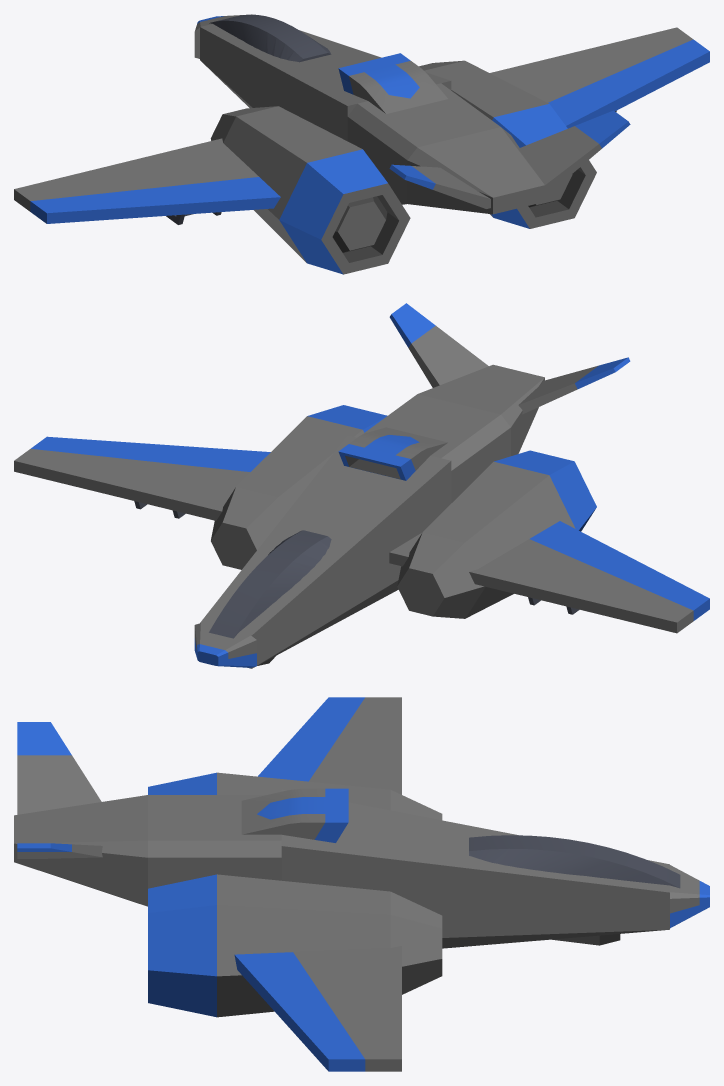
File: interceptor.fbx
3 renders of one model, top to bottom at view 1: azimuth 30°, elevation 25°; view 2: azimuth 150°, elevation 25°; view 3: azimuth 270°, elevation 25°, orthographic. The views are drawn at different scales.
Parts seen in each view (by area): view 1: engine_airplane%_17, wing_endLong_11, wing_endLong_12, plane_tailPoint%_14, engine_airplane%_0, plane_tailPoint%_8, plane_end_7, engine_intakeArrow_22, wing_diagonalFin_24, glass_curved_16, wing_diagonalFin_23; view 2: plane_tailPoint%_14, engine_airplane%_17, wing_endLong_11, wing_endLong_12, engine_airplane%_0, plane_end_7, glass_curved_16, plane_tailPoint%_8, wing_diagonalFin_24, engine_intakeArrow_22, plane_cockpitNose%_15, wing_diagonalFin_23; view 3: plane_tailPoint%_14, engine_airplane%_0, wing_endLong_12, plane_end_7, wing_endLong_11, plane_tailPoint%_8, glass_curved_16, wing_diagonalFin_23, engine_intakeArrow_22, engine_airplane%_17, plane_cockpitNose%_15, wing_diagonalFin_24.
Part boxes in pixels (x1,y1,x2,y2): engine_airplane%_17: [210, 106, 410, 274]; wing_endLong_11: [14, 138, 280, 223]; wing_endLong_12: [490, 27, 709, 128]; plane_tailPoint%_14: [200, 14, 451, 141]; engine_airplane%_0: [419, 60, 596, 228]; plane_tailPoint%_8: [407, 127, 544, 214]; plane_end_7: [347, 83, 500, 204]; engine_intakeArrow_22: [338, 53, 447, 113]; wing_diagonalFin_24: [518, 110, 630, 194]; glass_curved_16: [209, 14, 331, 62]; wing_diagonalFin_23: [389, 164, 490, 208]; plane_tailPoint%_14: [200, 435, 451, 668]; engine_airplane%_17: [397, 450, 596, 618]; wing_endLong_11: [389, 521, 709, 633]; wing_endLong_12: [14, 436, 270, 520]; engine_airplane%_0: [211, 405, 387, 569]; plane_end_7: [362, 394, 510, 502]; glass_curved_16: [209, 530, 331, 638]; plane_tailPoint%_8: [418, 364, 544, 455]; wing_diagonalFin_24: [389, 303, 488, 387]; engine_intakeArrow_22: [338, 427, 447, 480]; plane_cockpitNose%_15: [194, 623, 256, 667]; wing_diagonalFin_23: [518, 357, 630, 414]; plane_tailPoint%_14: [281, 789, 669, 948]; engine_airplane%_0: [148, 874, 442, 1017]; wing_endLong_12: [234, 946, 401, 1071]; plane_end_7: [148, 795, 281, 888]; wing_endLong_11: [258, 697, 401, 794]; plane_tailPoint%_8: [14, 795, 147, 906]; glass_curved_16: [469, 835, 680, 888]; wing_diagonalFin_23: [17, 722, 101, 814]; engine_intakeArrow_22: [241, 788, 348, 842]; engine_airplane%_17: [148, 772, 442, 820]; plane_cockpitNose%_15: [670, 865, 709, 928]; wing_diagonalFin_24: [17, 843, 102, 858].
Size of the model in its own units: 64 by 13.9 by 52.
